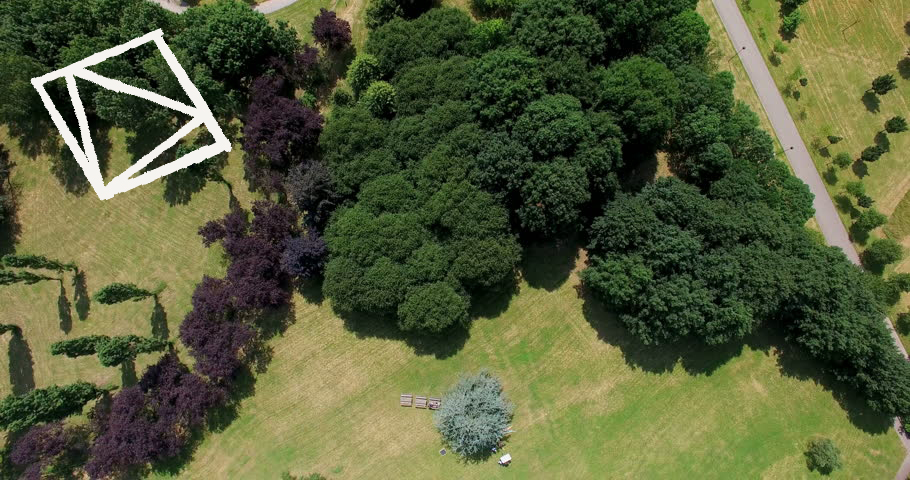marker: (28, 22, 235, 209)
